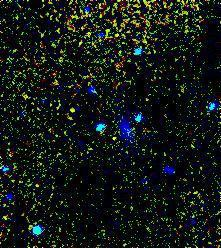star: (54, 96, 84, 126)
